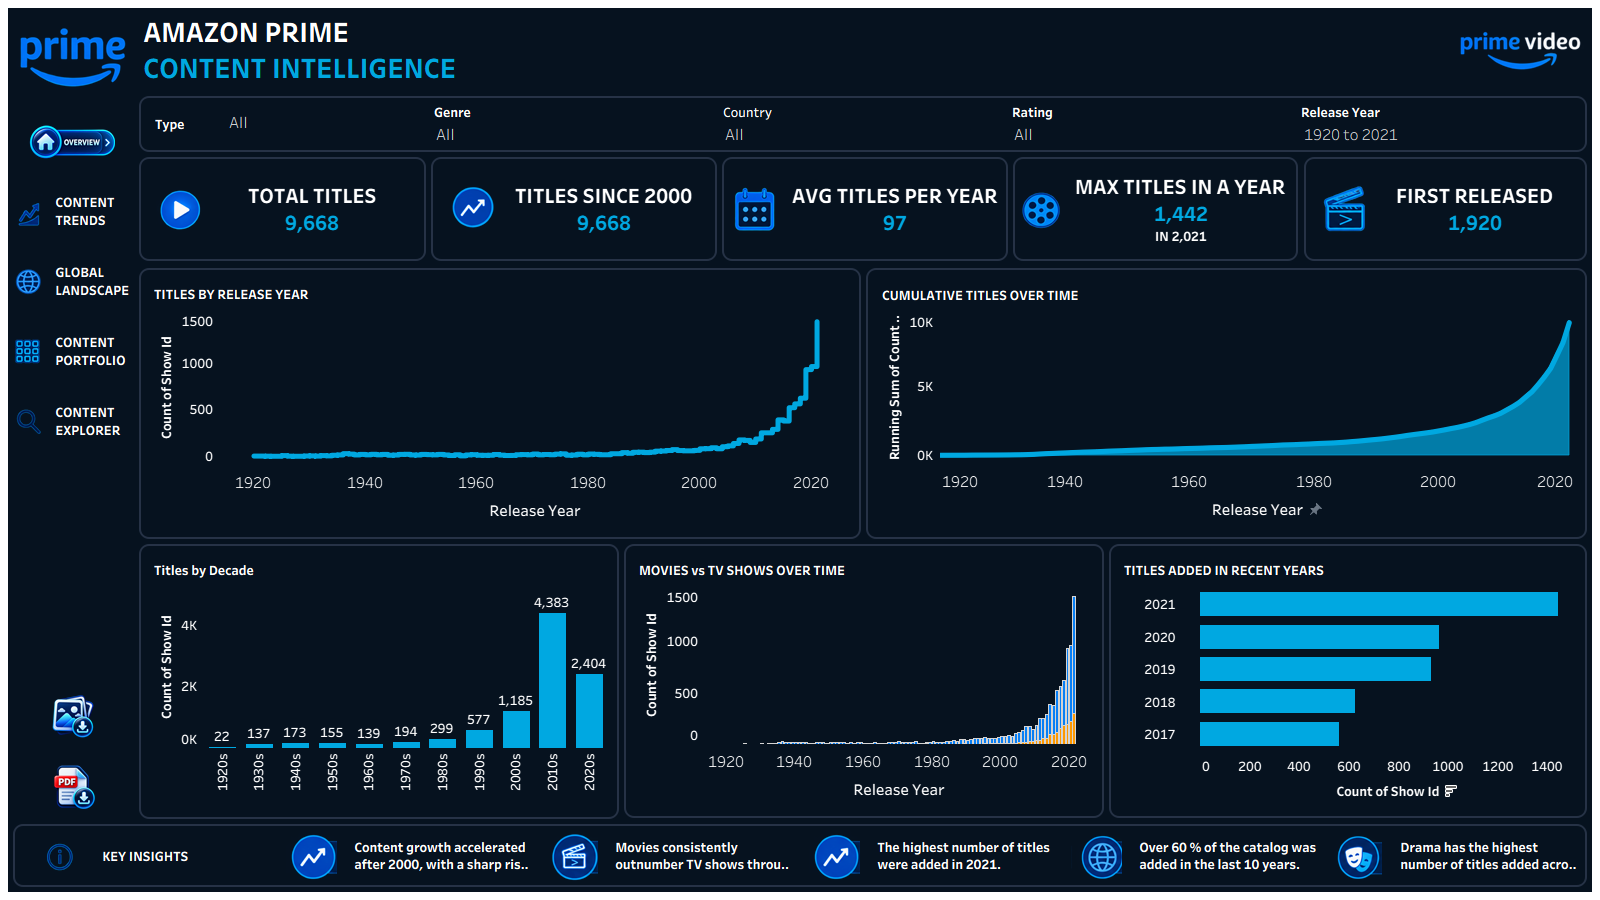

The dashboard page shown, as its layout file describes it:
{"tool":"tableau","page":{"name":"AMAZON | CONTENT INTELLIGENCE DASHBOARD","canvas":[1600,900],"ordinal":0},"visuals":[{"type":"image","param":"Image/prime_logo.png","box":[8,8,128,98]},{"type":"text","box":[136,8,1315,83]},{"type":"image","param":"Image/prime_video_logo.png","box":[1451,8,141,83]},{"type":"filter","title":"Total Titles","param":"[federated.17ok92y1r0kxl01af6d7q1ly0c2d].[none:Calculation_2167447875399695:nk]","box":[430,98,289,52]},{"type":"filter","title":"Total Titles","param":"[federated.17ok92y1r0kxl01af6d7q1ly0c2d].[none:country:nk]","box":[719,98,289,52]},{"type":"filter","title":"Total Titles","param":"[federated.17ok92y1r0kxl01af6d7q1ly0c2d].[none:rating:nk]","box":[1008,98,289,52]},{"type":"filter","title":"Total Titles","param":"[federated.17ok92y1r0kxl01af6d7q1ly0c2d].[none:release_year:qk]","box":[1297,98,288,52]},{"type":"dashboard-object","box":[8,106,128,70]},{"type":"filter","title":"Total Titles","param":"[federated.17ok92y1r0kxl01af6d7q1ly0c2d].[none:type:nk]","box":[151,108,269,32]},{"type":"image","param":"Image/calendar.png","box":[724,159,60,100]},{"type":"worksheet","title":"AVG TITLES PER YEAR","mark":"Automatic","box":[784,159,222,100]},{"type":"image","param":"Image/film_reel.png","box":[1015,159,51,100]},{"type":"worksheet","title":"MAX TITLES IN A YEAR","mark":"Automatic","box":[1066,159,230,100]},{"type":"image","param":"Image/play.png","box":[151,169,60,80]},{"type":"worksheet","title":"Total Titles","mark":"Automatic","box":[211,169,203,80]},{"type":"image","param":"Image/growth_circle.png","box":[443,169,60,80]},{"type":"worksheet","title":"Titles Since 2000","mark":"Automatic","box":[503,169,202,80]},{"type":"image","param":"Image/clapperboard.png","box":[1316,169,60,80]},{"type":"worksheet","title":"FIRST RELEASED TITLE","mark":"Automatic","box":[1376,169,199,80]},{"type":"image","param":"Image/growth_chart.png","box":[8,176,40,70]},{"type":"text","box":[48,176,88,70]},{"type":"image","param":"Image/globe.png","box":[8,246,40,70]},{"type":"text","box":[48,246,88,70]},{"type":"worksheet","title":"TITLES BY RELEASE YEAR","mark":"Line","rows":["show_id"],"cols":["release_year"],"box":[146,275,708,257]},{"type":"worksheet","title":"CUMULATIVE TITLES OVER TIME","mark":"Line","rows":["show_id","show_id"],"cols":["release_year"],"box":[874,276,705,255]},{"type":"image","param":"Image/content_grid.png","box":[8,316,40,70]},{"type":"text","box":[48,316,88,70]},{"type":"image","param":"Image/search.png","box":[8,386,40,70]},{"type":"text","box":[48,386,88,70]},{"type":"blank","box":[8,456,128,80.5]},{"type":"blank","box":[8,536.5,128,80.5]},{"type":"worksheet","title":"Titles by Decade","mark":"Automatic","rows":["show_id"],"cols":["Calculation_2167448134578200"],"box":[146,551,466,261]},{"type":"worksheet","title":"MOVIES vs TV SHOWS OVER TIME","mark":"Bar","rows":["show_id"],"cols":["release_year"],"box":[631,551,466,260]},{"type":"worksheet","title":"TITLES ADDED IN RECENT YEARS","mark":"Bar","rows":["release_year"],"cols":["show_id"],"box":[1116,551,464,260]},{"type":"blank","box":[8,617,128,32]},{"type":"blank","box":[8,649,128,32]},{"type":"dashboard-object","box":[8,681,128,70]},{"type":"dashboard-object","box":[8,751,128,70]},{"type":"image","param":"Image/insight_growth.png","box":[276.7,826,70,59]},{"type":"text","box":[346.7,826,191.7,59]},{"type":"image","param":"Image/insight_movies.png","box":[538.3,826,70,59]},{"type":"text","box":[608.3,826,191.7,59]},{"type":"image","param":"Image/insight_growth.png","box":[800,826,70,59]},{"type":"text","box":[870,826,191.7,59]},{"type":"image","param":"Image/insight_global.png","box":[1061.7,826,70,59]},{"type":"text","box":[1131.7,826,191.7,59]},{"type":"image","param":"Image/insight_drama.png","box":[1323.3,826,70,59]},{"type":"text","box":[1393.3,826,191.7,59]},{"type":"image","param":"Image/info.png","box":[25,836,70,39]},{"type":"text","box":[95,836,171.7,39]}]}

Visuals, with their boxes in screenshot pixels (x1, y1, x2, y2), scaled from the page's 1600x900 canvas onto the 1600x900 screenshot:
image: (8,8,136,106)
text: (136,8,1451,91)
image: (1451,8,1592,91)
"Total Titles" filter: (430,98,719,150)
"Total Titles" filter: (719,98,1008,150)
"Total Titles" filter: (1008,98,1297,150)
"Total Titles" filter: (1297,98,1585,150)
dashboard-object: (8,106,136,176)
"Total Titles" filter: (151,108,420,140)
image: (724,159,784,259)
"AVG TITLES PER YEAR" worksheet: (784,159,1006,259)
image: (1015,159,1066,259)
"MAX TITLES IN A YEAR" worksheet: (1066,159,1296,259)
image: (151,169,211,249)
"Total Titles" worksheet: (211,169,414,249)
image: (443,169,503,249)
"Titles Since 2000" worksheet: (503,169,705,249)
image: (1316,169,1376,249)
"FIRST RELEASED TITLE" worksheet: (1376,169,1575,249)
image: (8,176,48,246)
text: (48,176,136,246)
image: (8,246,48,316)
text: (48,246,136,316)
"TITLES BY RELEASE YEAR" worksheet (Line marks): (146,275,854,532)
"CUMULATIVE TITLES OVER TIME" worksheet (Line marks): (874,276,1579,531)
image: (8,316,48,386)
text: (48,316,136,386)
image: (8,386,48,456)
text: (48,386,136,456)
blank: (8,456,136,536)
blank: (8,536,136,617)
"Titles by Decade" worksheet: (146,551,612,812)
"MOVIES vs TV SHOWS OVER TIME" worksheet (Bar marks): (631,551,1097,811)
"TITLES ADDED IN RECENT YEARS" worksheet (Bar marks): (1116,551,1580,811)
blank: (8,617,136,649)
blank: (8,649,136,681)
dashboard-object: (8,681,136,751)
dashboard-object: (8,751,136,821)
image: (277,826,347,885)
text: (347,826,538,885)
image: (538,826,608,885)
text: (608,826,800,885)
image: (800,826,870,885)
text: (870,826,1062,885)
image: (1062,826,1132,885)
text: (1132,826,1323,885)
image: (1323,826,1393,885)
text: (1393,826,1585,885)
image: (25,836,95,875)
text: (95,836,267,875)
